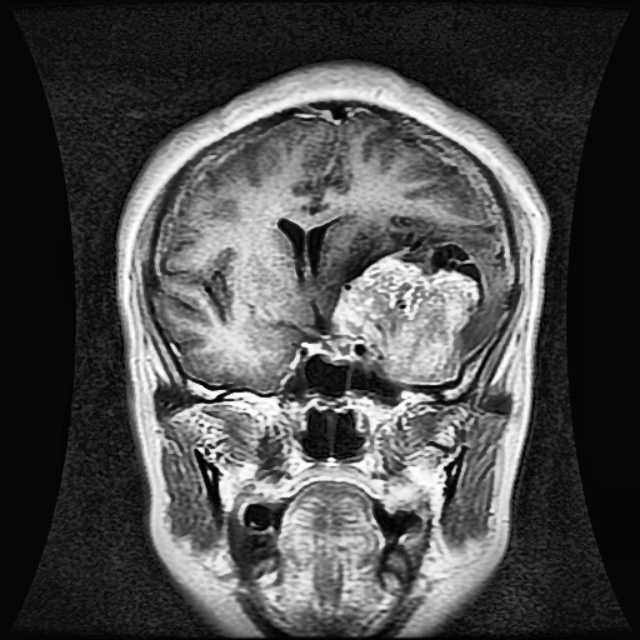Glioma: (328, 245, 483, 384)
